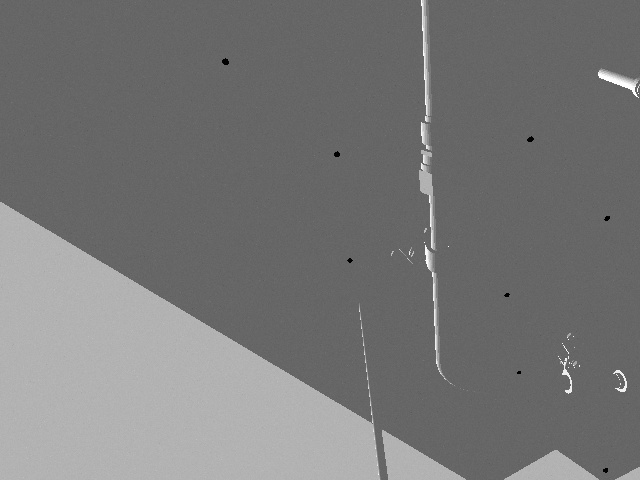hole: (220, 56, 231, 67), (525, 134, 536, 144), (332, 149, 342, 159), (602, 214, 613, 223), (345, 256, 354, 265), (601, 466, 610, 475), (502, 291, 512, 299), (515, 369, 523, 376)
